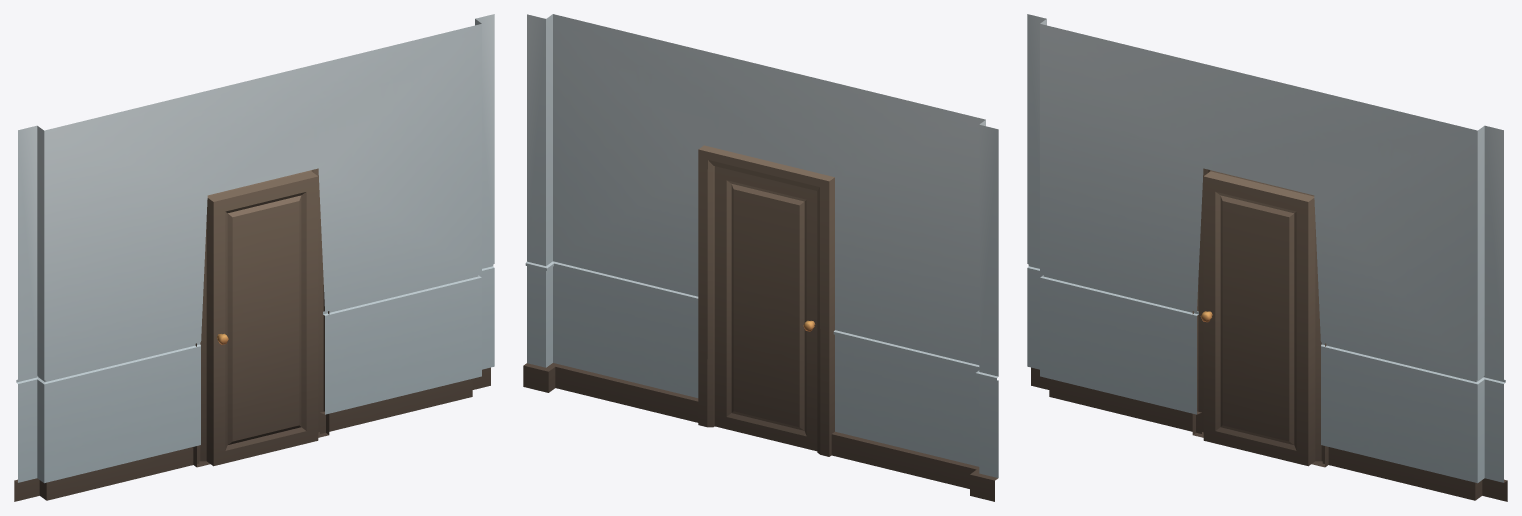
File: 4m_wall_with_door.fbx
3 renders of one model, left to right at view 1: azimuth 30°, elevation 25°; view 2: azimuth 150°, elevation 25°; view 3: azimuth 330°, elevation 25°, orthographic.
Visible parts, largest first — view 1: 4m_doorswall, door; view 2: 4m_doorswall, door; view 3: 4m_doorswall, door.
Boxes of the visible parts, x1=… form: 4m_doorswall: x1=14, y1=14, x2=494, y2=501; door: x1=210, y1=174, x2=318, y2=466; 4m_doorswall: x1=523, y1=14, x2=998, y2=501; door: x1=714, y1=166, x2=817, y2=451; 4m_doorswall: x1=1027, y1=14, x2=1507, y2=501; door: x1=1200, y1=174, x2=1314, y2=466.
Bounding box in the file's own units: 400 × 300 × 26.81.
